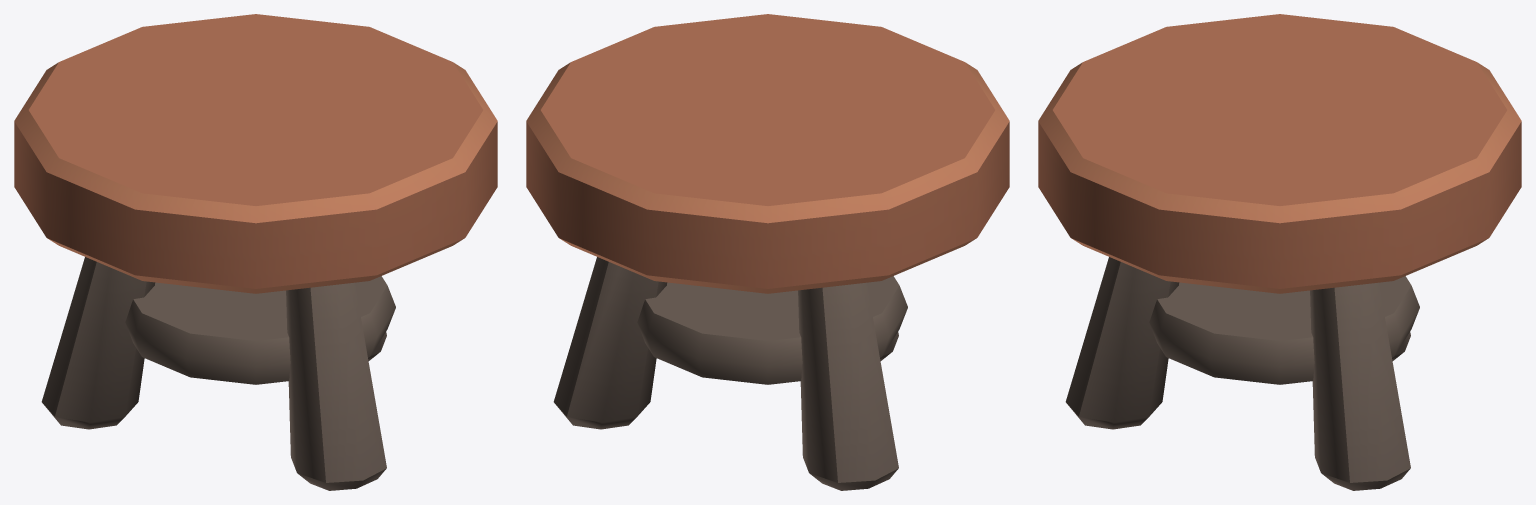
File: stool.obj
3 renders of one model, left to right at view 1: azimuth 30°, elevation 25°; view 2: azimuth 150°, elevation 25°; view 3: azimuth 270°, elevation 25°, orthographic.
Visible parts, largest first — view 1: stool; view 2: stool; view 3: stool.
Part boxes in pixels (box(x1,y1,x2,y2)): stool: box(14, 14, 497, 490); stool: box(526, 14, 1009, 490); stool: box(1038, 14, 1521, 490).
Size of the model in its own units: 1 by 0.7029 by 1.
Materials: 1 (1 with a texture image).
